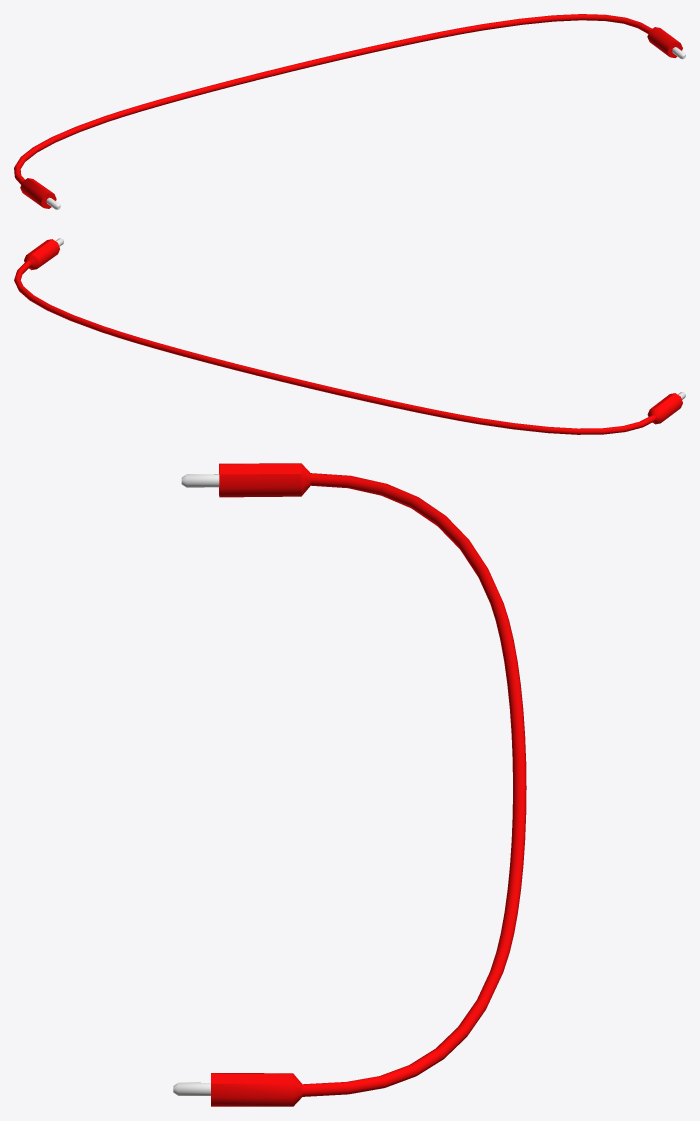
Rendered from ElectroWires10_1.FBX.
3 views of the same model, one above another, from view 1: azimuth 30°, elevation 25°; view 2: azimuth 150°, elevation 25°; view 3: azimuth 270°, elevation 25° (orthographic). The views are drawn at different scales.
Visible parts, largest first — view 1: Wires10; view 2: Wires10; view 3: Wires10.
Boxes of the visible parts, x1=… form: Wires10: x1=14, y1=14, x2=685, y2=209; Wires10: x1=14, y1=238, x2=685, y2=434; Wires10: x1=173, y1=463, x2=526, y2=1106.
Bounding box in the file's own units: 114 × 2.77 × 27.24.
